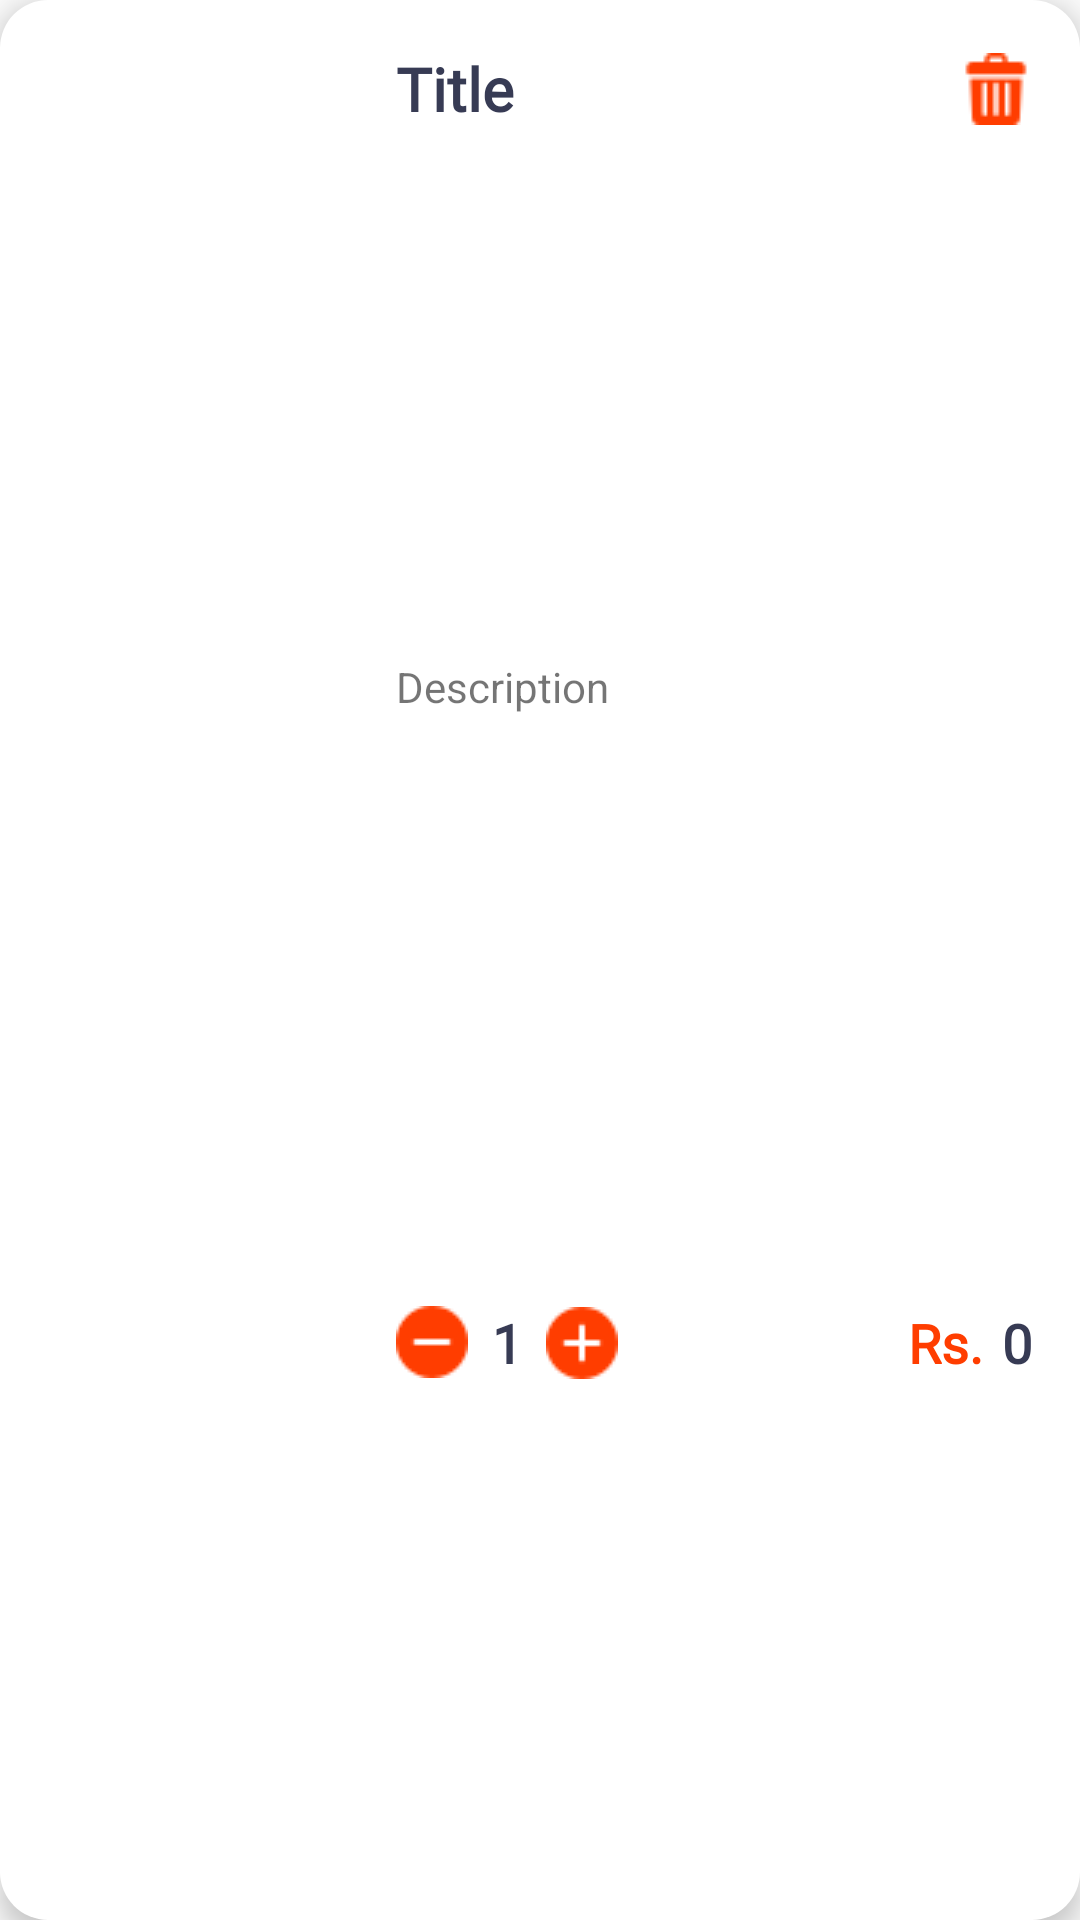

Named icons in this screenshot (1080 x 1920) and their bounding boxes, (x1,y1,x2,y2):
minus: (396,1306,468,1378)
plus: (546,1307,618,1379)
trash: (965,53,1027,125)
